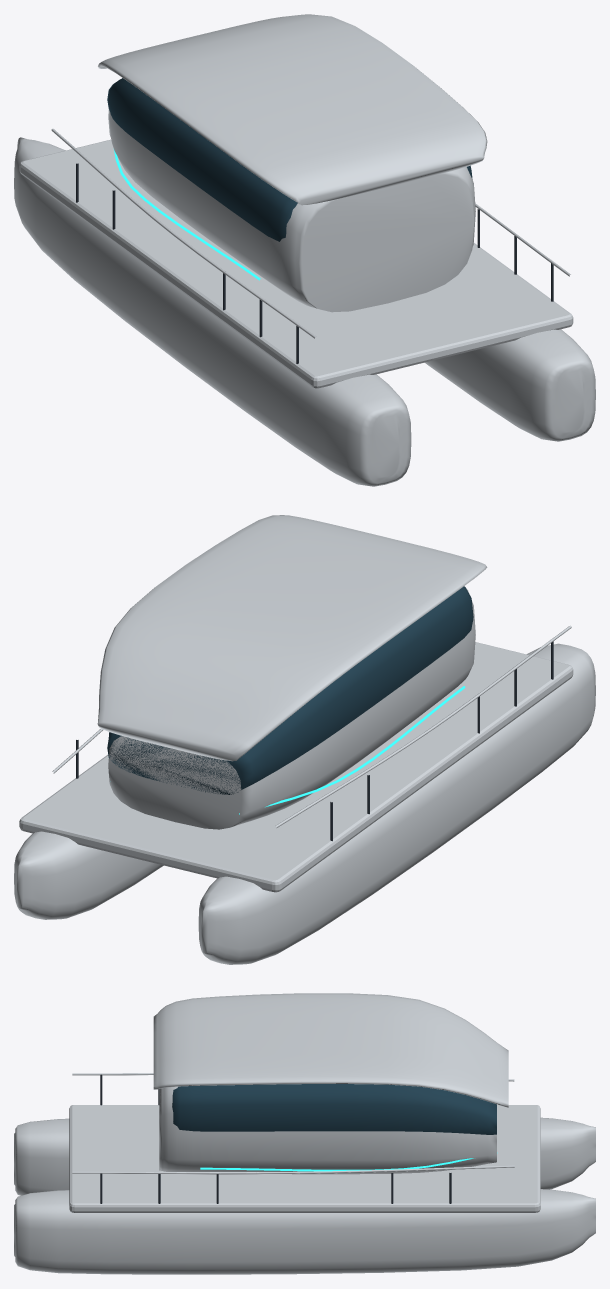
Rendered from catamaran_ferry.gltf.
3 renders of one model, top to bottom at view 1: azimuth 30°, elevation 25°; view 2: azimuth 150°, elevation 25°; view 3: azimuth 270°, elevation 25°, orthographic. The views are drawn at different scales.
Visible parts, largest first — view 1: catamaran_ferry; view 2: catamaran_ferry; view 3: catamaran_ferry.
Boxes of the visible parts, x1,y1,x2,y2 form: catamaran_ferry: (14, 14, 595, 486); catamaran_ferry: (14, 515, 595, 964); catamaran_ferry: (14, 993, 595, 1274).
Size of the model in its own units: 4.14 by 3.75 by 10.
